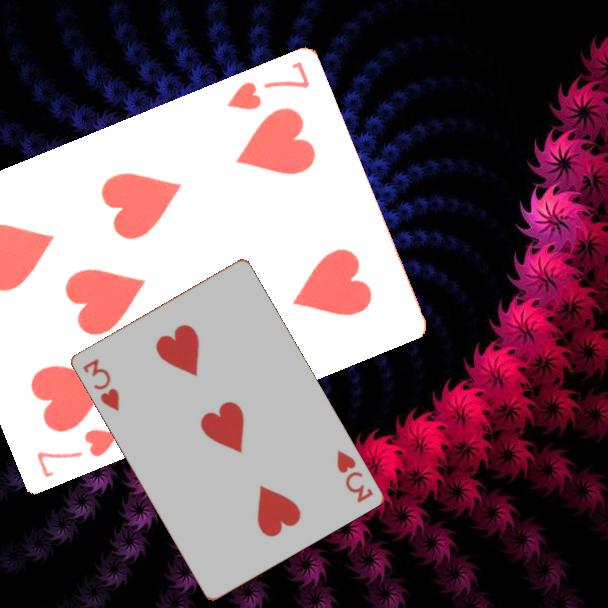h03: (333, 446, 376, 506), (79, 355, 122, 414)
h07: (223, 58, 313, 114), (33, 426, 122, 481)
